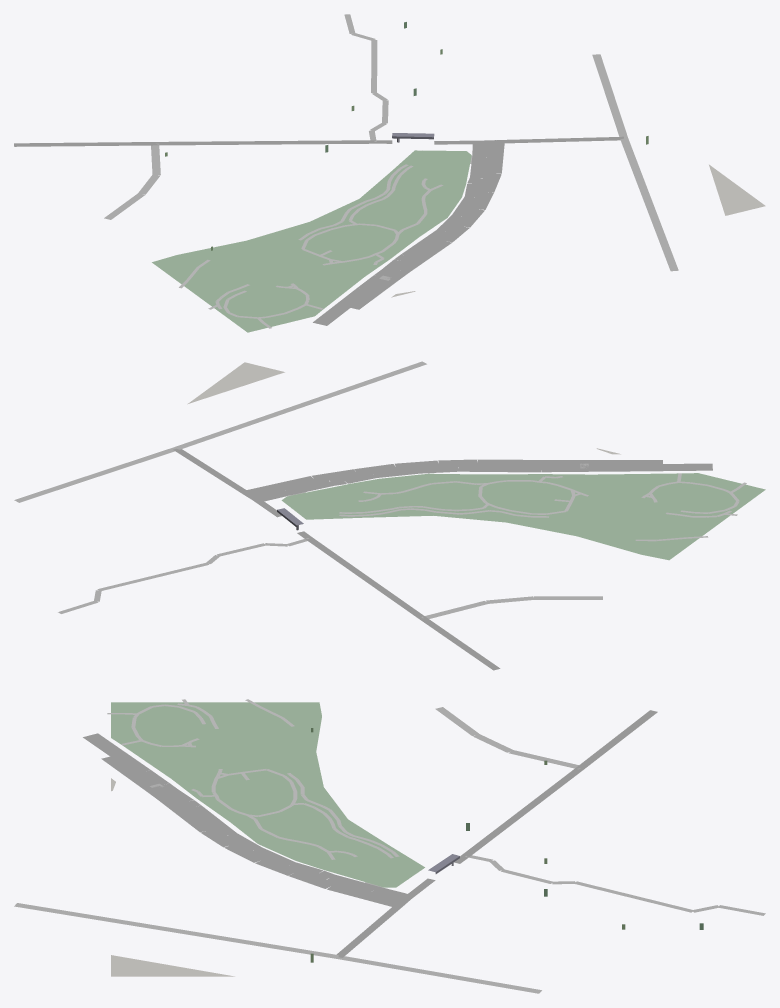
3 views of the same model, one above another, from view 1: azimuth 30°, elevation 25°; view 2: azimuth 150°, elevation 25°; view 3: azimuth 270°, elevation 25° (orthographic). The views are drawn at different scales.
Bounding box in the file's own units: 537 × 8.19 × 579.
